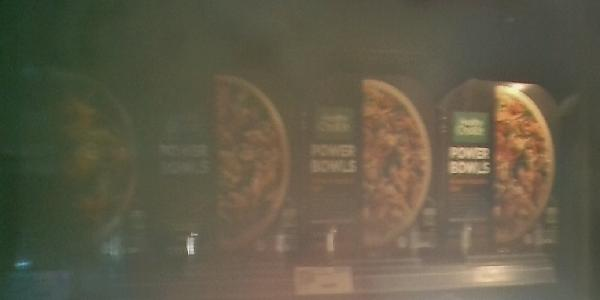pizza1: (1, 51, 160, 268), (300, 72, 444, 260), (157, 65, 297, 257), (443, 78, 565, 256)
